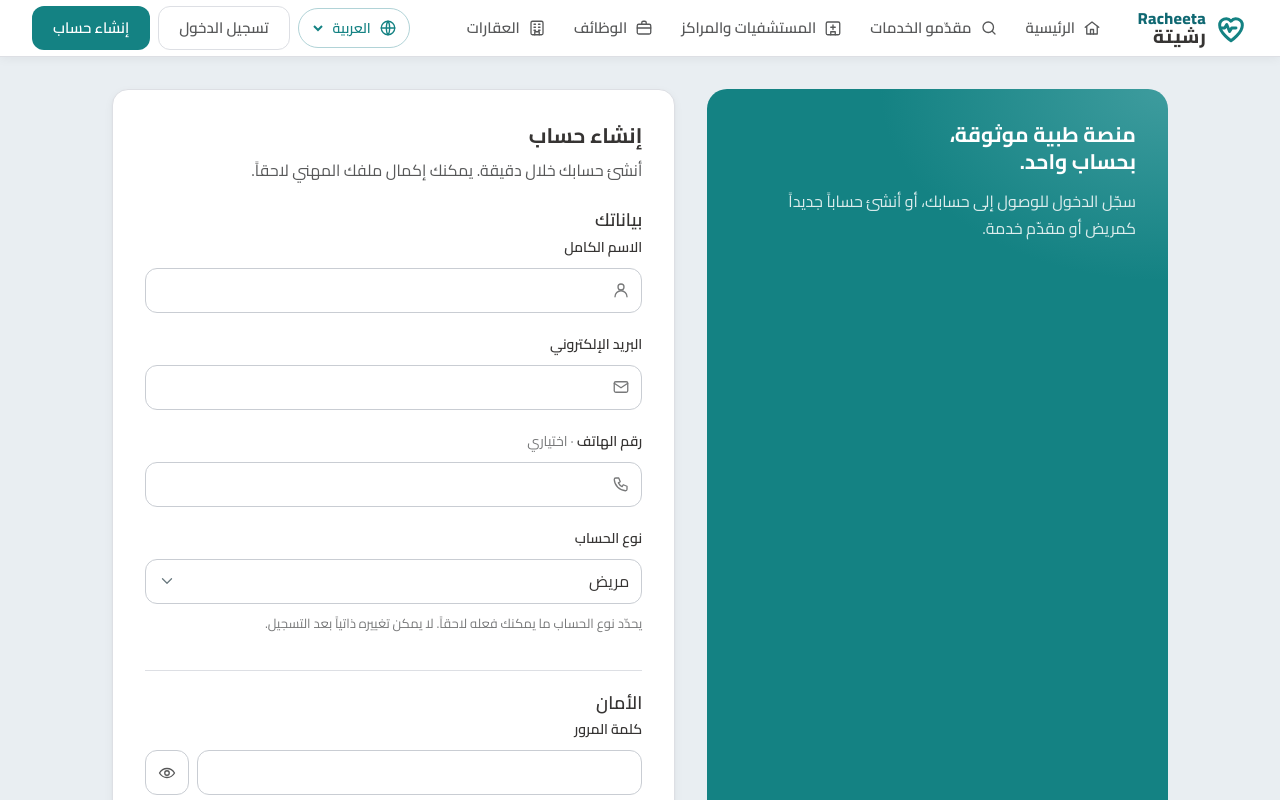
Test case: RegisterPage › rejects mismatched passwords on the client
This screenshot has width=1280, height=800.
Type "New Person" into the field labelled "الاسم الكامل". click: (394, 290)
box: left=145, top=268, right=642, bottom=313
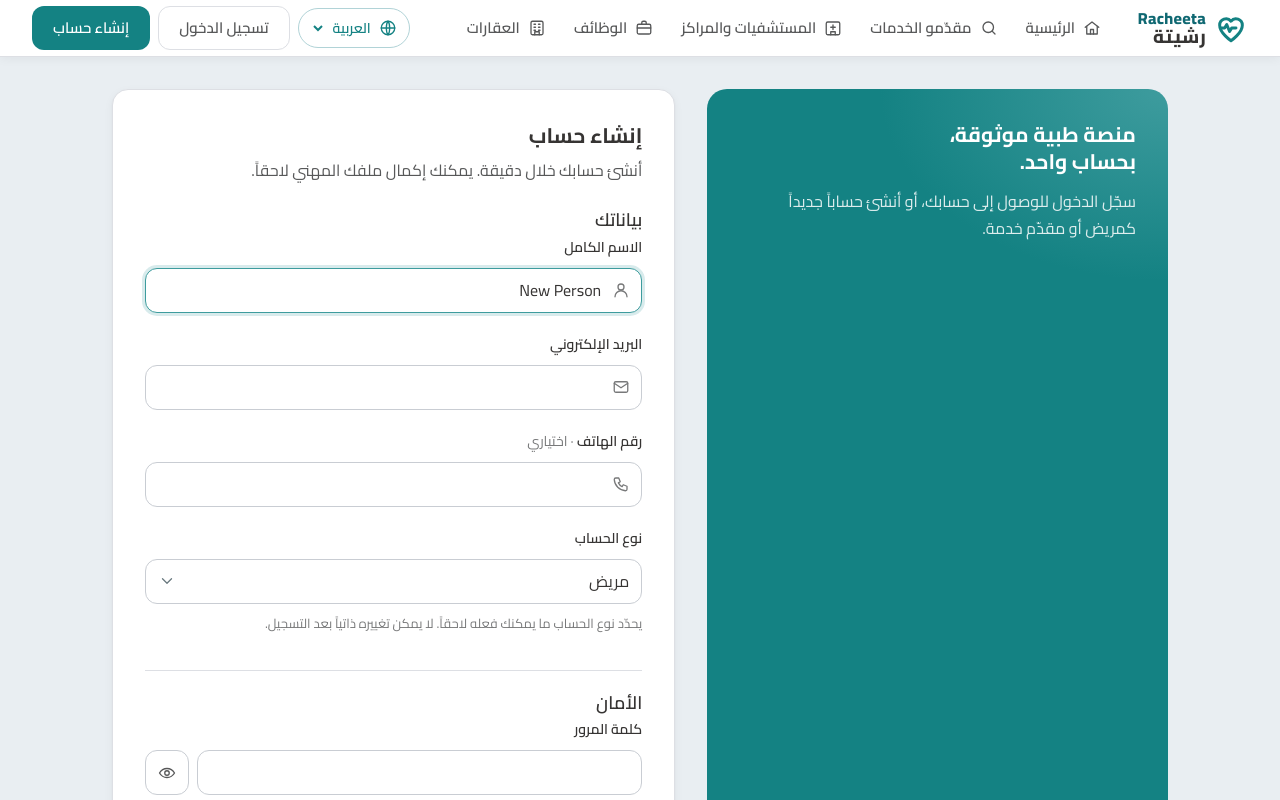
Type "new@example.com" into the field labelled "البريد الإلكتروني". click: (394, 387)
box: left=145, top=365, right=642, bottom=410
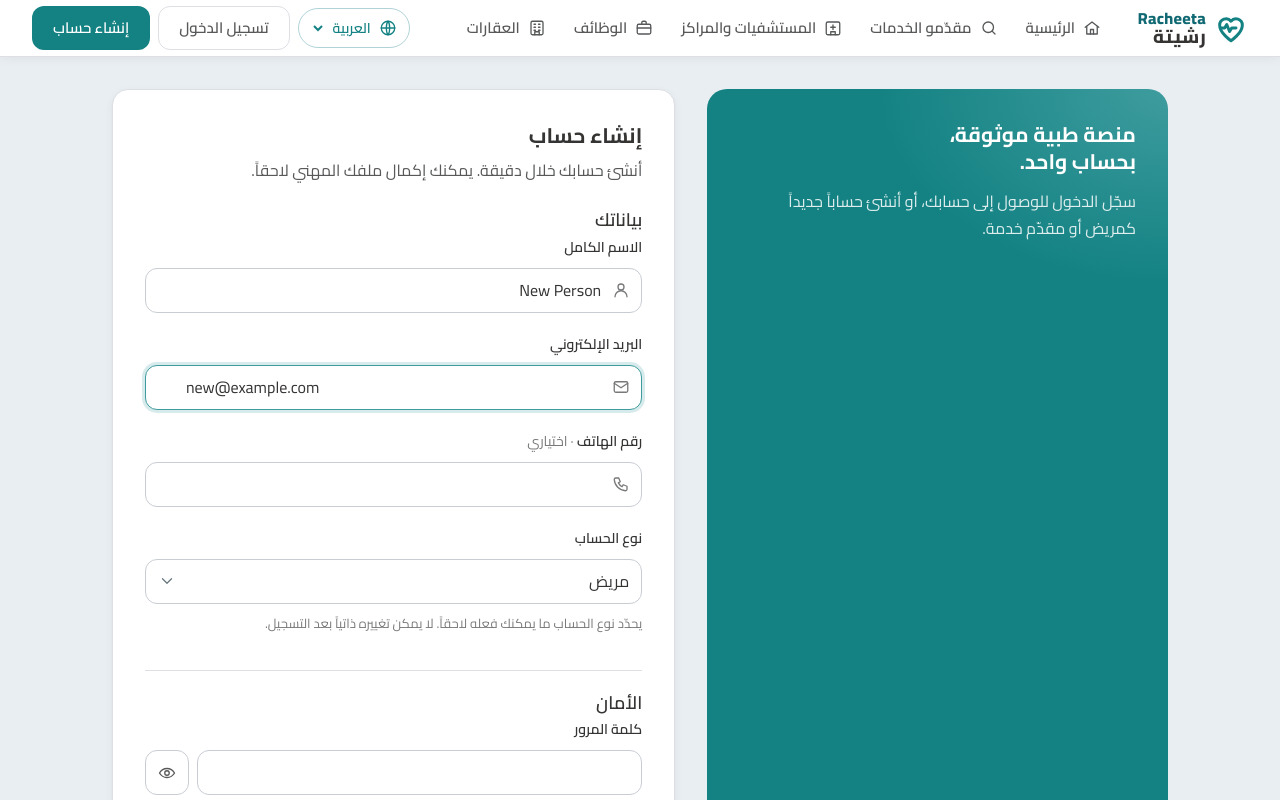
Type "Str0ng-Passw0rd!" into the password field labelled "كلمة المرور". click: (420, 773)
box: left=197, top=750, right=642, bottom=795
(page scrolled)
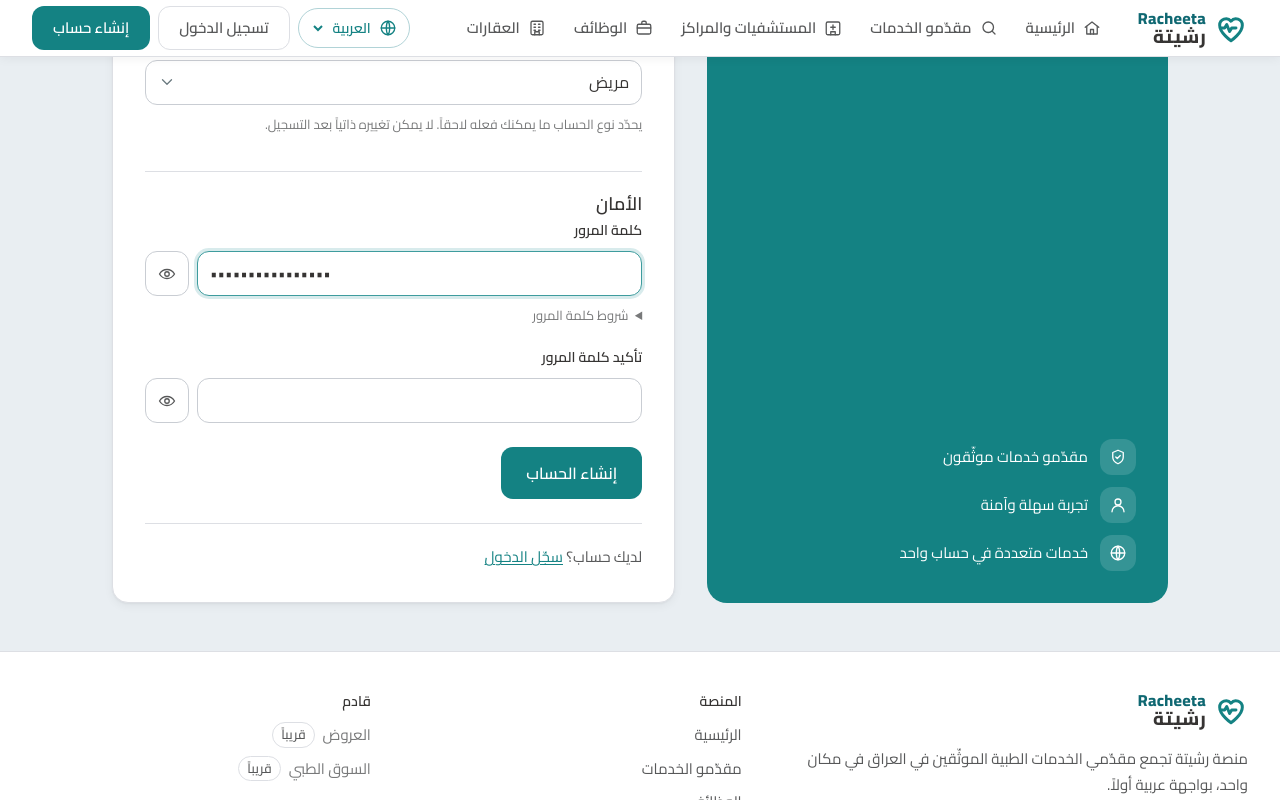
Type "Str0ng-Passw0rd!" into the password field labelled "تأكيد كلمة المرور". click: (420, 401)
box: left=197, top=378, right=642, bottom=423
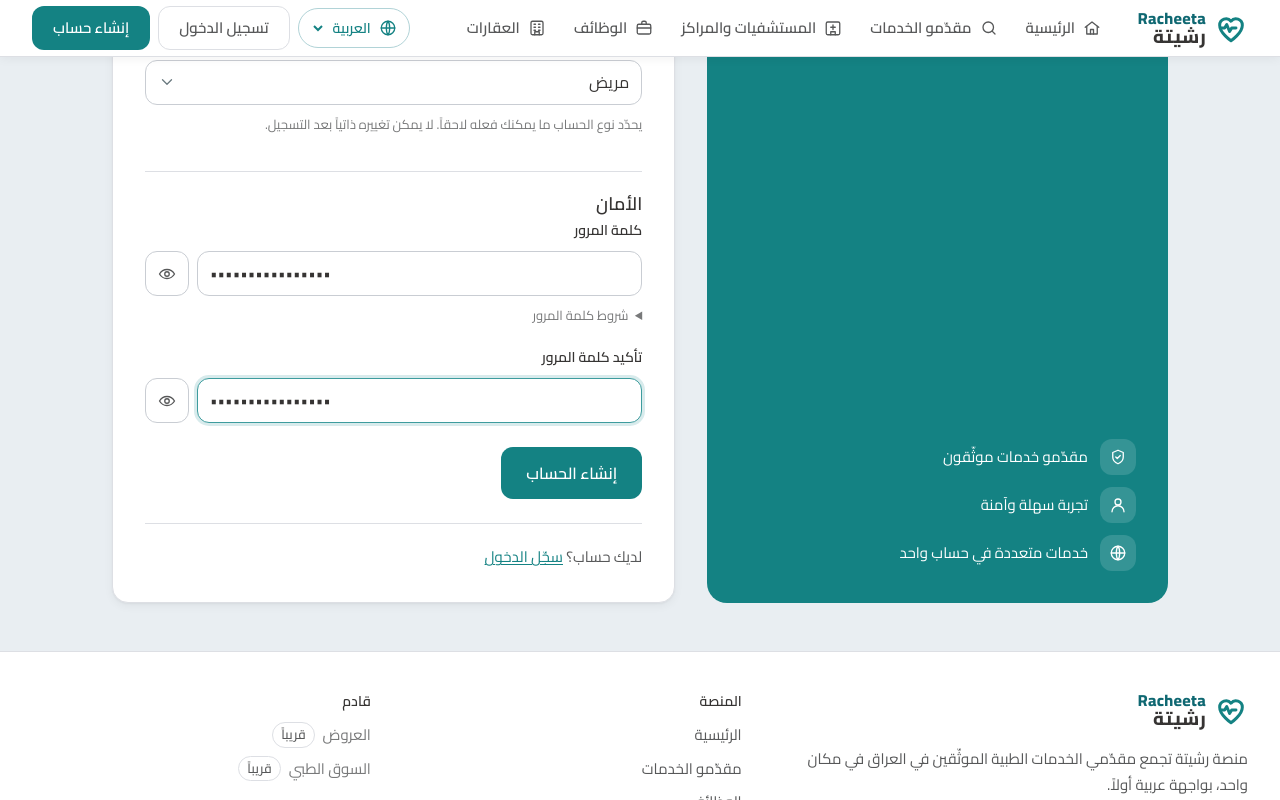
Type "different-1" into the password field labelled "تأكيد كلمة المرور". click: (420, 401)
box: left=197, top=378, right=642, bottom=423
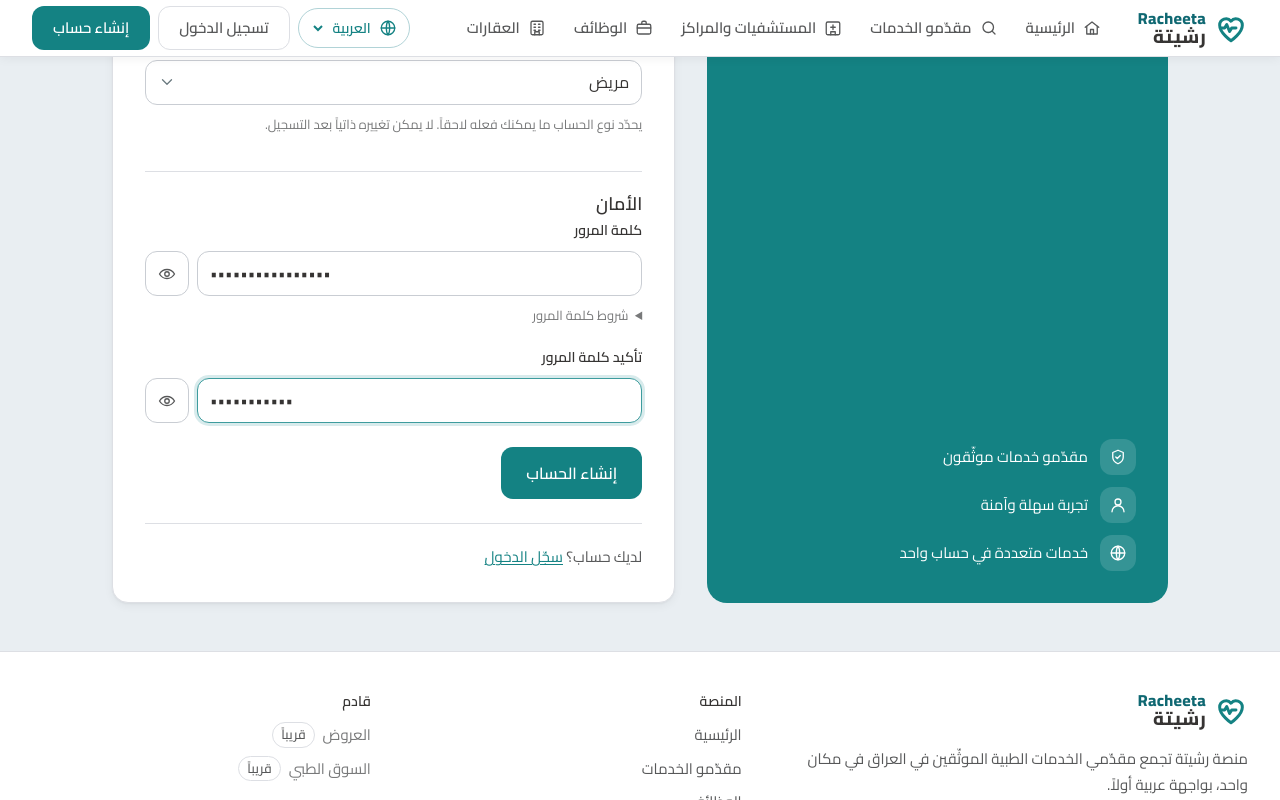
Click the button "إنشاء الحساب". click: (572, 473)
box: left=501, top=447, right=642, bottom=499
(page scrolled)
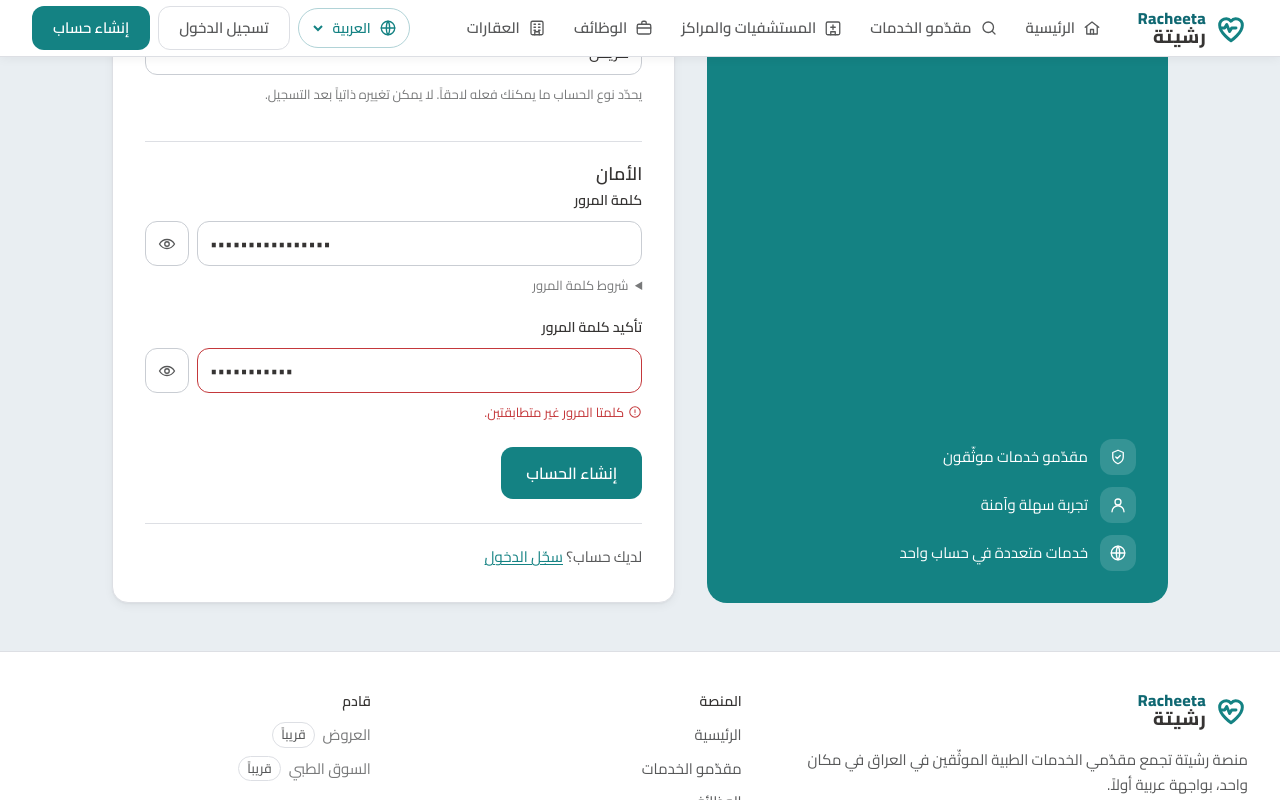
Check: the message reads "كلمتا المرور غير متطابقتين.", box left=484, top=400, right=624, bottom=424
